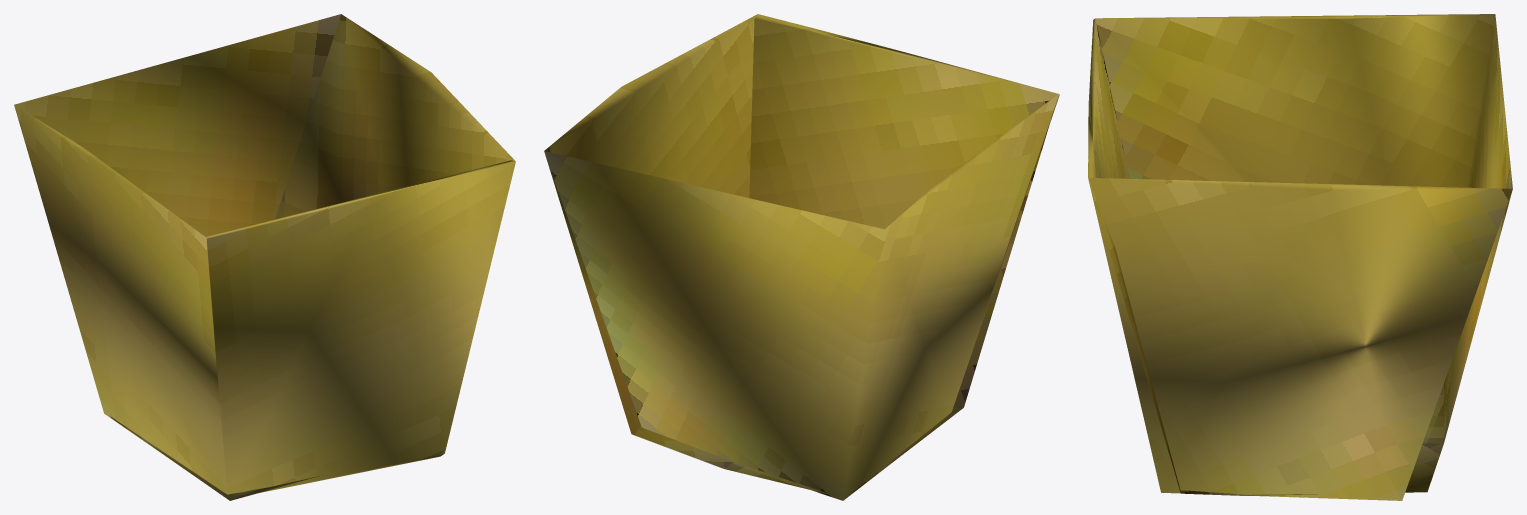
File: Ecoforms_Plant_Container_QP6HARVEST-low.glb
3 renders of one model, left to right at view 1: azimuth 30°, elevation 25°; view 2: azimuth 150°, elevation 25°; view 3: azimuth 270°, elevation 25°, orthographic. The views are drawn at different scales.
Parts seen in each view (by area): view 1: Ecoforms_Plant_Container_QP6HARVEST; view 2: Ecoforms_Plant_Container_QP6HARVEST; view 3: Ecoforms_Plant_Container_QP6HARVEST.
Part boxes in pixels (bbox=[...]): Ecoforms_Plant_Container_QP6HARVEST: bbox=[14, 14, 515, 500]; Ecoforms_Plant_Container_QP6HARVEST: bbox=[544, 14, 1059, 500]; Ecoforms_Plant_Container_QP6HARVEST: bbox=[1088, 14, 1512, 500].
Bounding box in the file's own units: 0.1887 × 0.1665 × 0.1867.
1 material, 1 textured.
